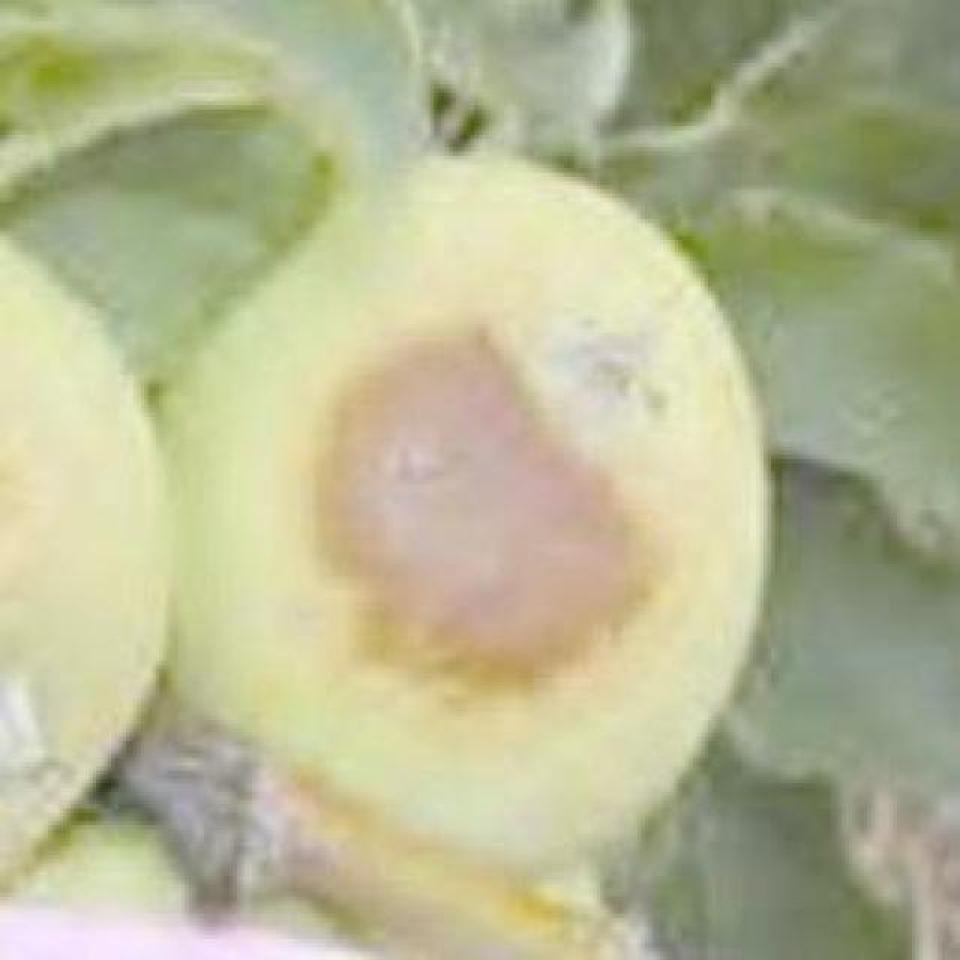Sunscald: (291, 309, 691, 705)
